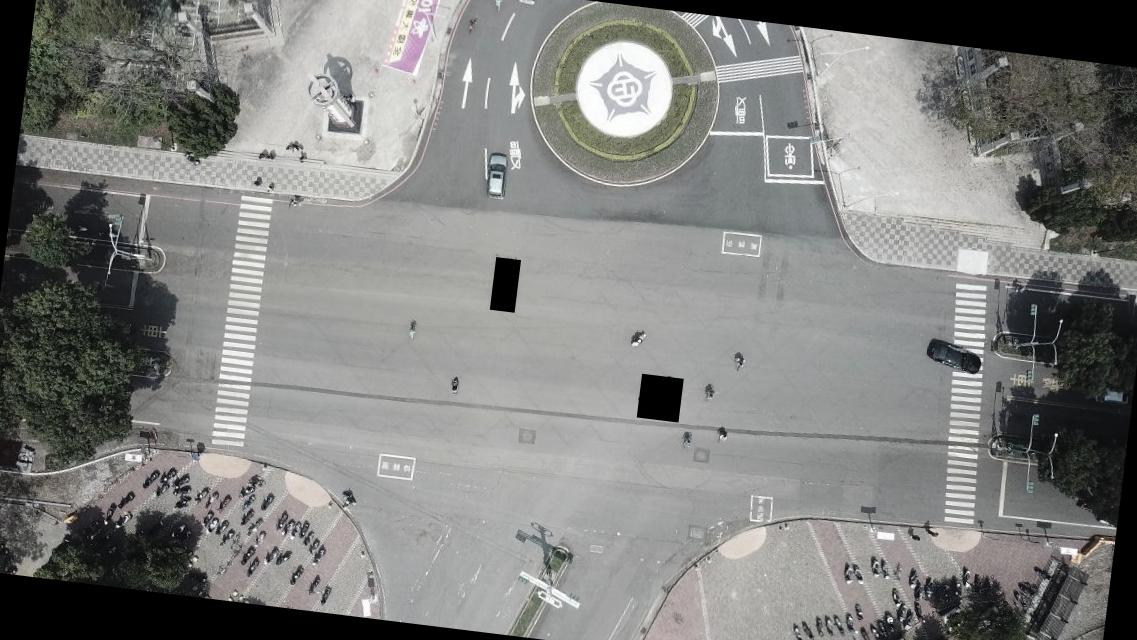vehicle: (921, 336, 984, 376), (482, 150, 509, 199), (1090, 384, 1130, 406)
